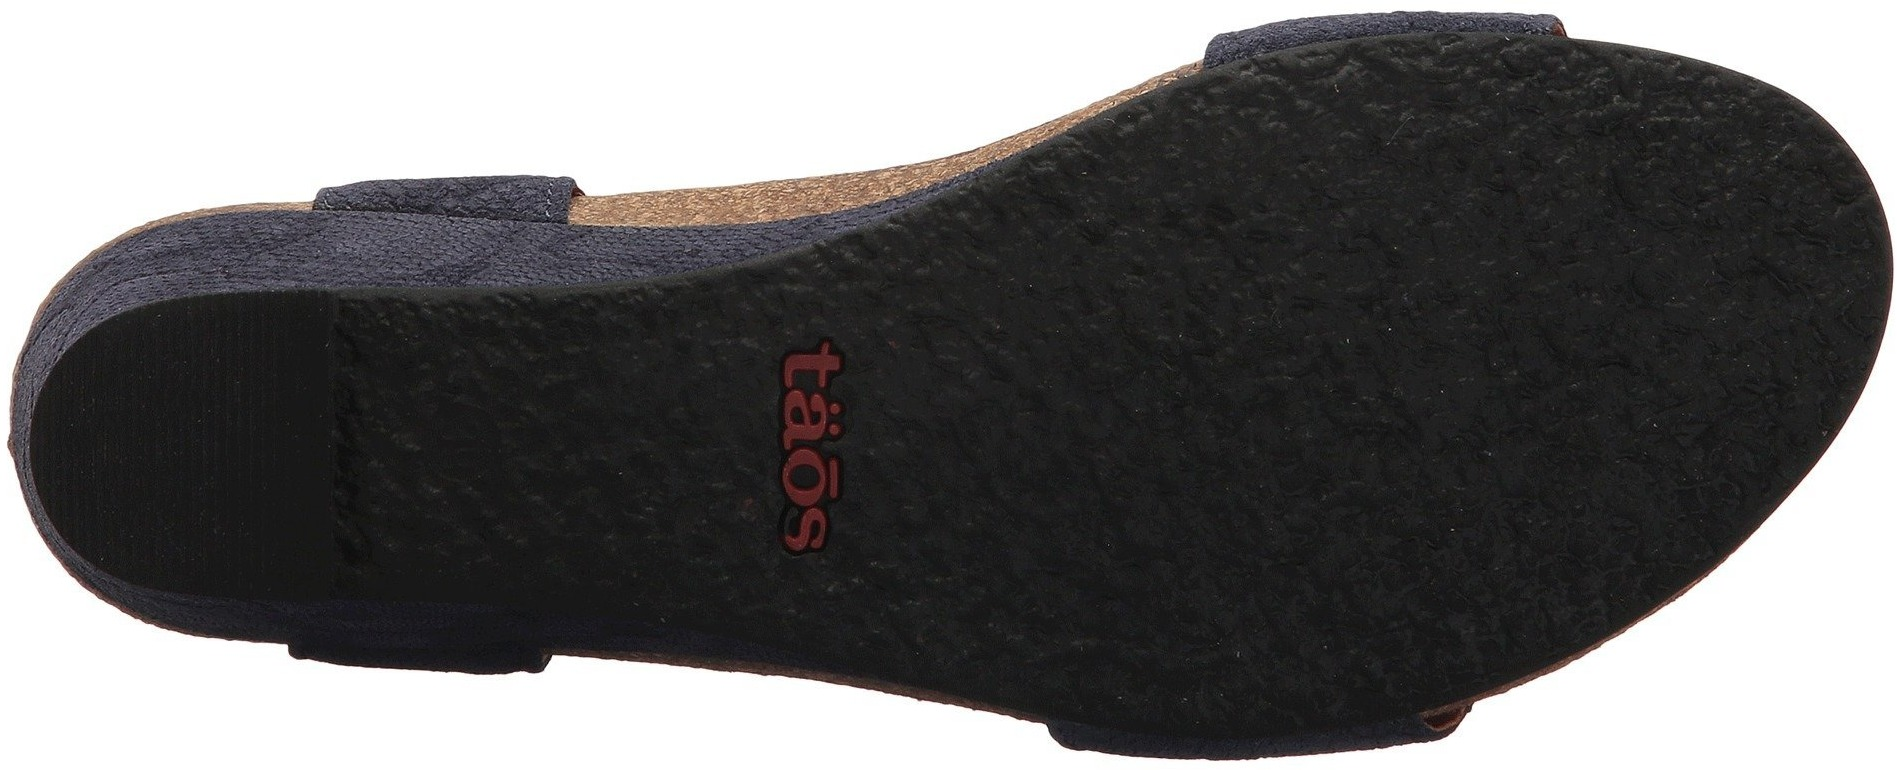line: (38, 306, 287, 590)
text: (768, 339, 853, 561)
